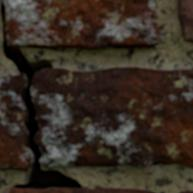brick: (3, 0, 161, 50), (178, 0, 192, 41), (4, 189, 153, 192), (181, 191, 192, 192)
broken_brick: (32, 66, 192, 169), (0, 74, 29, 171)
crack: (0, 2, 82, 190)
